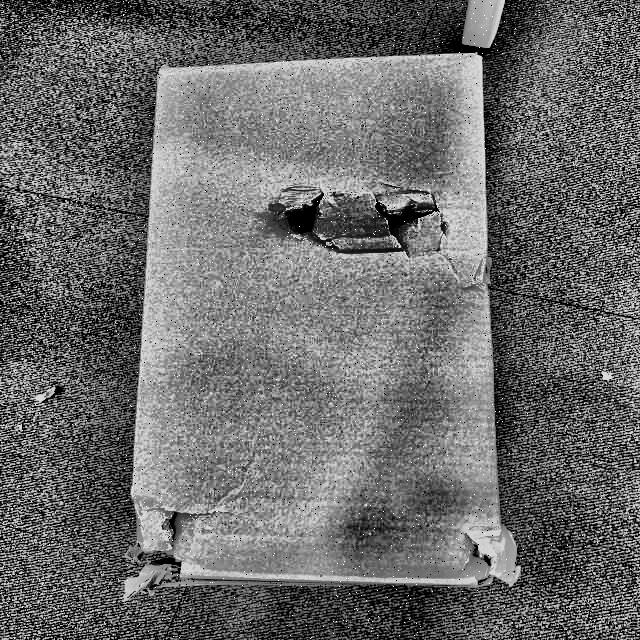box: (123, 34, 507, 610)
hole: (276, 194, 436, 244), (441, 511, 534, 594), (136, 510, 192, 586)
